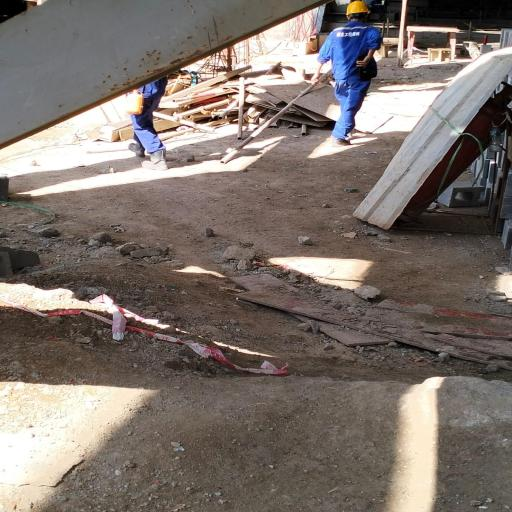safety_shoe: (140, 149, 170, 170), (330, 134, 352, 148), (127, 141, 146, 156)
